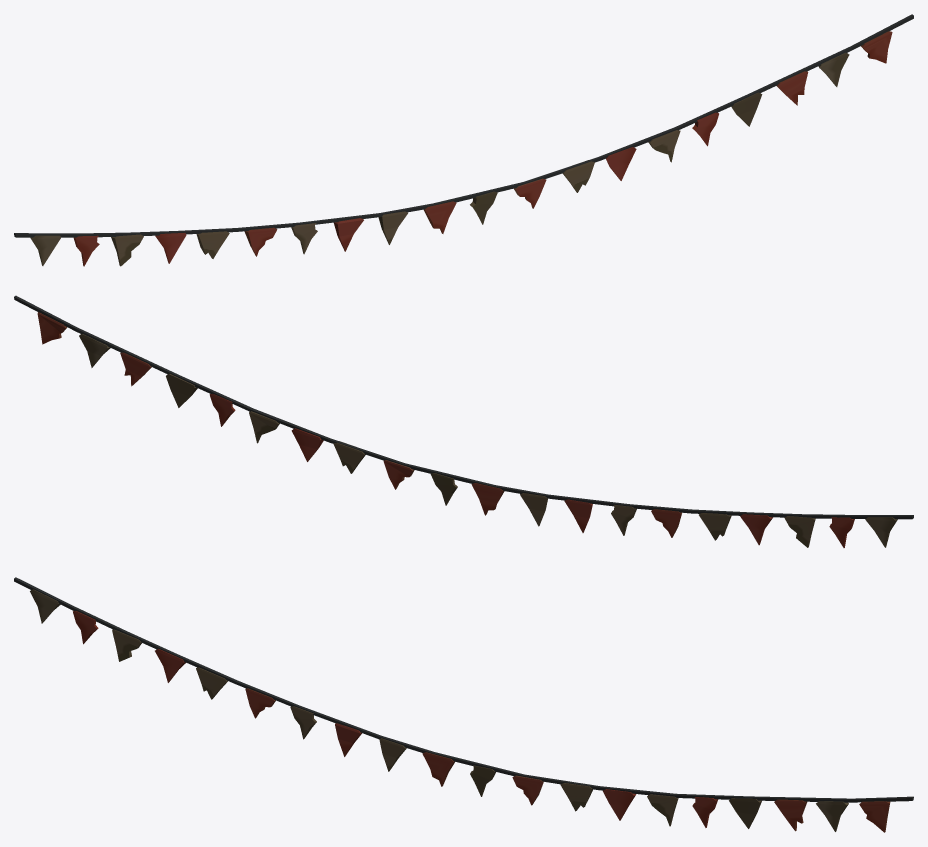
File: SM_Prop_Flags_05.glb
The picture shows the model from 3 angles, top to bottom: view 1: azimuth 30°, elevation 25°; view 2: azimuth 150°, elevation 25°; view 3: azimuth 330°, elevation 25°; orthographic projection.
Parts seen in each view (by area): view 1: SM_Prop_Flags_05; view 2: SM_Prop_Flags_05; view 3: SM_Prop_Flags_05.
Boxes of the visible parts, x1,y1,x2,y2 form: SM_Prop_Flags_05: (14, 14, 913, 266); SM_Prop_Flags_05: (14, 295, 913, 547); SM_Prop_Flags_05: (14, 577, 913, 832).
Bounding box in the file's own units: 999 × 111 × 6.59.
Materials: 1 (1 with a texture image).
